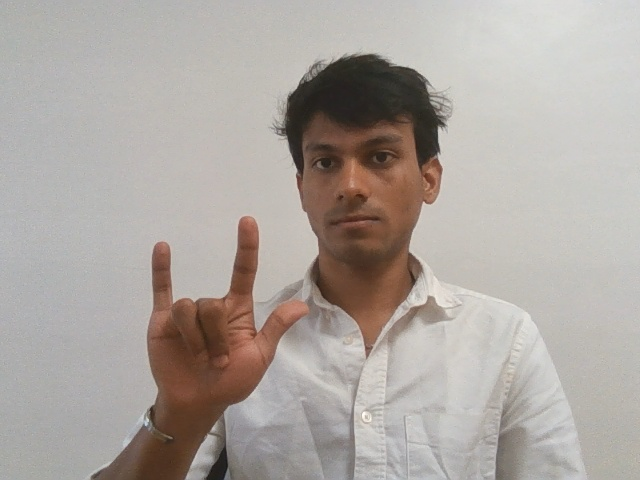ILoveYou: (127, 214, 314, 439)
